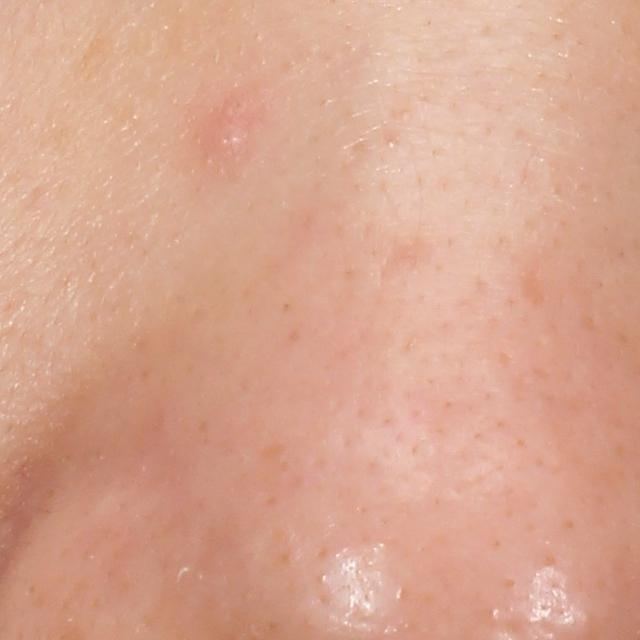papule: (206, 113, 251, 167)
